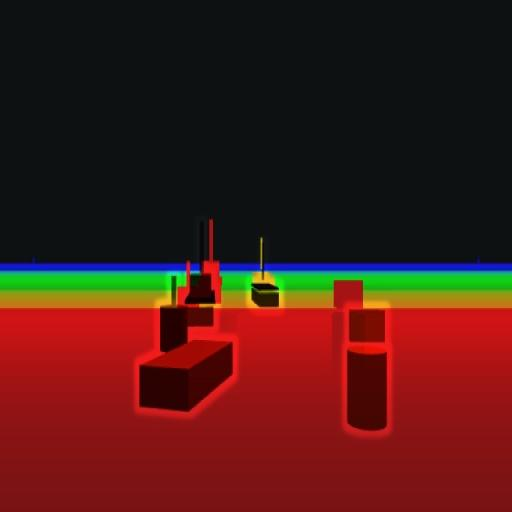buoy: (347, 307, 391, 431)
debris_container: (141, 339, 237, 413)
floating_obstacle: (160, 276, 188, 350)
vessel: (251, 235, 281, 312)
